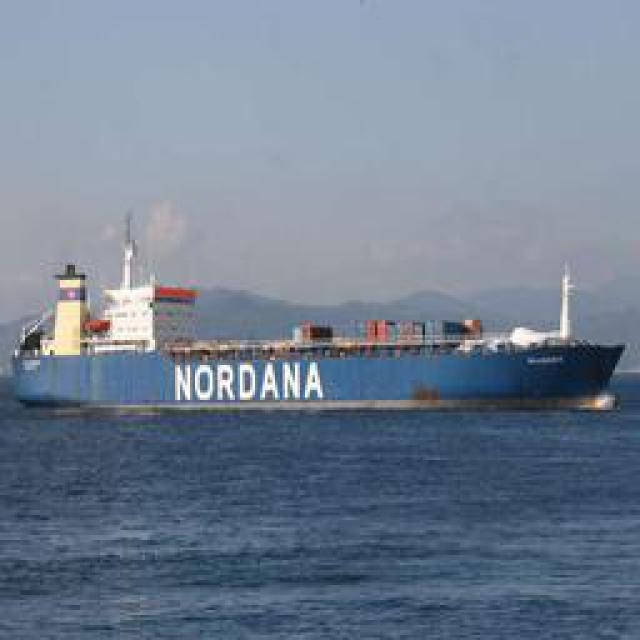Ship: (22, 258, 625, 413)
